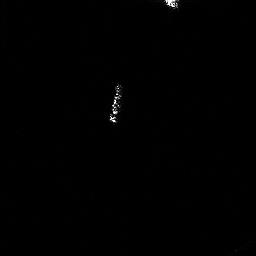ship: (107, 83, 121, 124)
